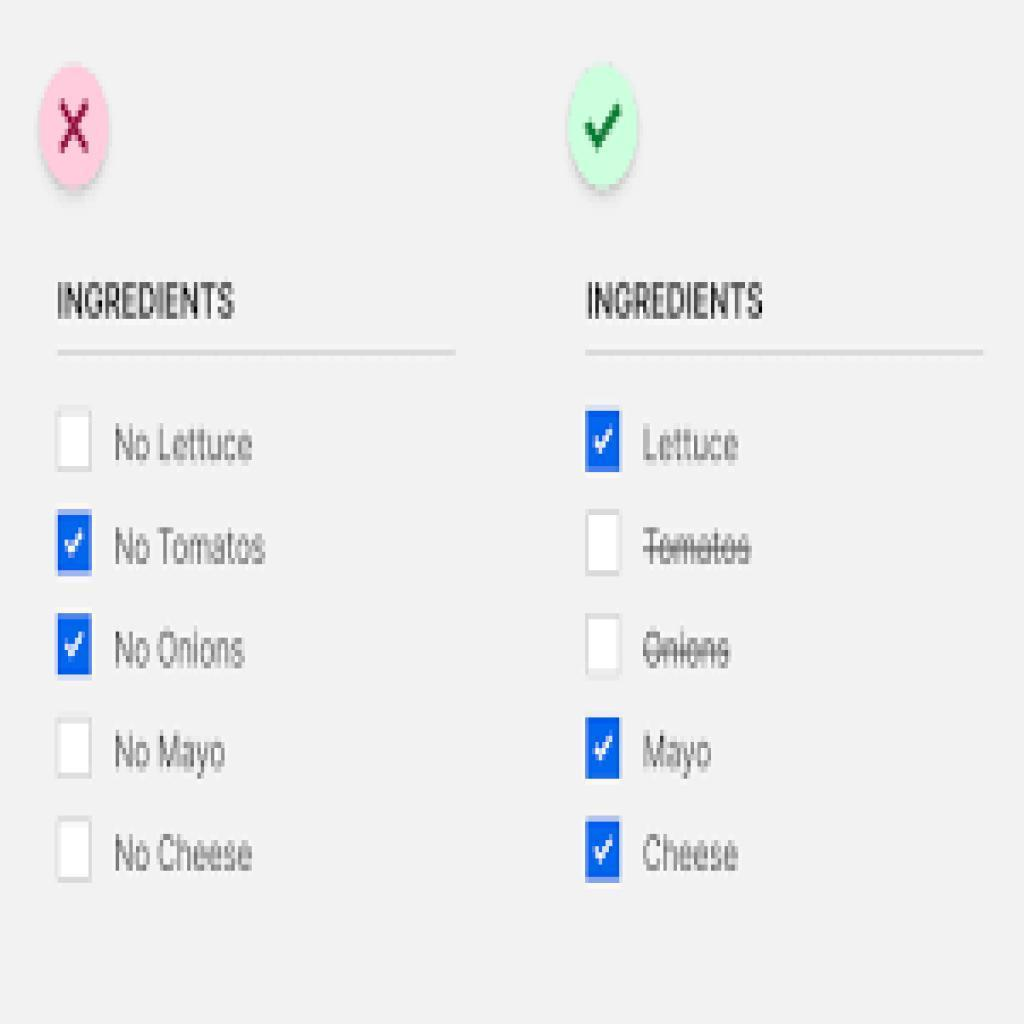checkbox: (53, 614, 94, 681), (586, 816, 625, 884), (55, 511, 94, 578), (585, 510, 624, 577), (586, 613, 624, 681), (54, 717, 94, 781), (55, 817, 93, 884), (55, 409, 93, 473), (585, 408, 623, 472), (586, 718, 624, 780)
label: (114, 521, 268, 572), (113, 420, 258, 469), (115, 830, 257, 878), (114, 627, 253, 676), (635, 520, 757, 571), (112, 727, 232, 778), (638, 830, 748, 878), (641, 420, 743, 465), (641, 622, 736, 670), (642, 729, 715, 782)
